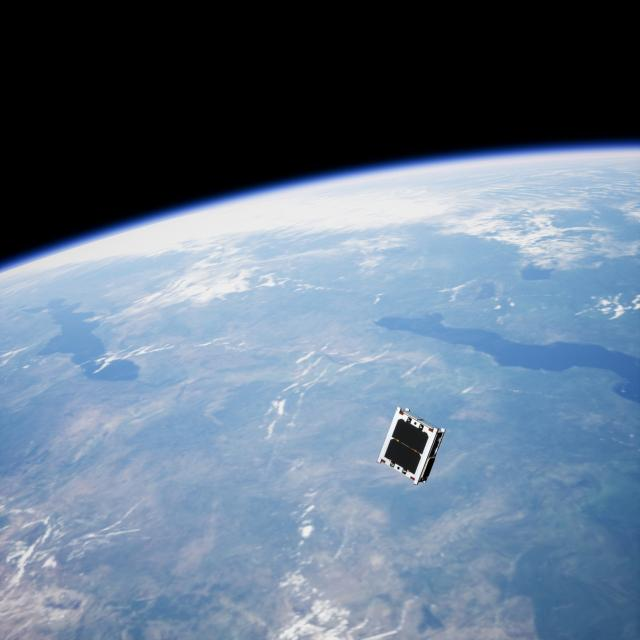medium_debris: (378, 397, 448, 487)
